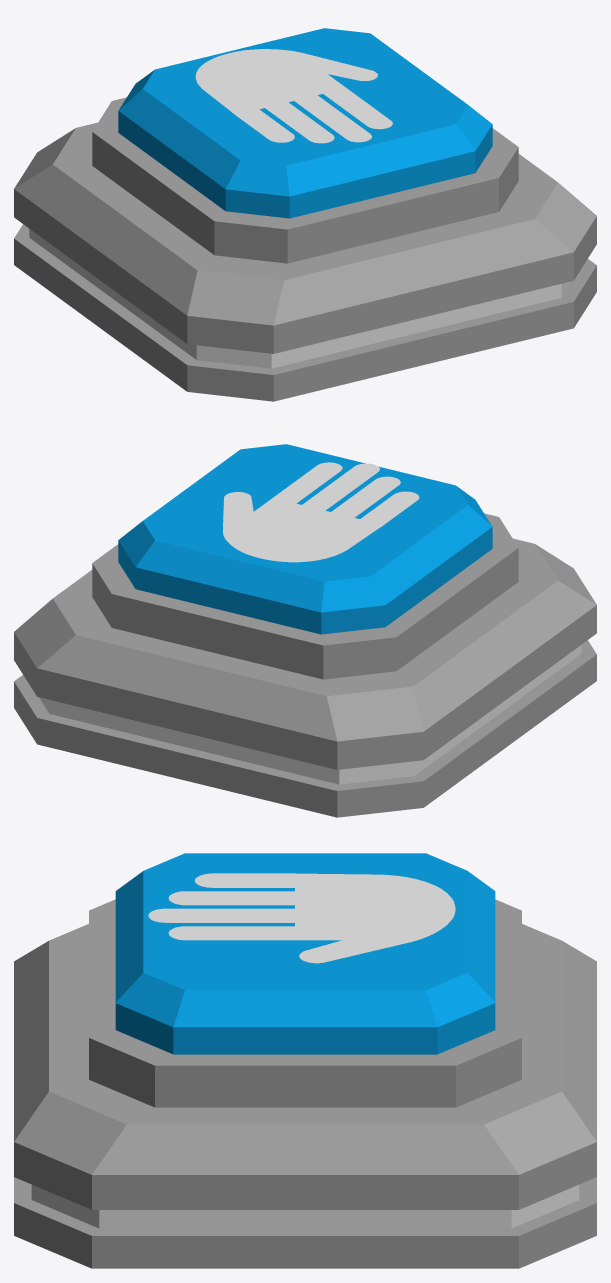
The model's file is HandButton.fbx.
3 renders of one model, top to bottom at view 1: azimuth 30°, elevation 25°; view 2: azimuth 150°, elevation 25°; view 3: azimuth 270°, elevation 25°, orthographic. The views are drawn at different scales.
Parts seen in each view (by area): view 1: HandButton, HandButtonPad, HandDecal; view 2: HandButton, HandButtonPad, HandDecal; view 3: HandButton, HandButtonPad, HandDecal.
Part boxes in pixels (box(x1,y1,x2,y2)): HandButton: box(14, 97, 596, 401); HandButtonPad: box(118, 28, 492, 218); HandDecal: box(195, 49, 392, 143); HandButton: box(14, 513, 596, 817); HandButtonPad: box(118, 444, 492, 634); HandDecal: box(222, 462, 419, 562); HandButton: box(14, 899, 596, 1268); HandButtonPad: box(115, 853, 495, 1054); HandDecal: box(148, 873, 455, 963).
Bounding box in the file's own units: 24.24 × 10.43 × 24.24.
